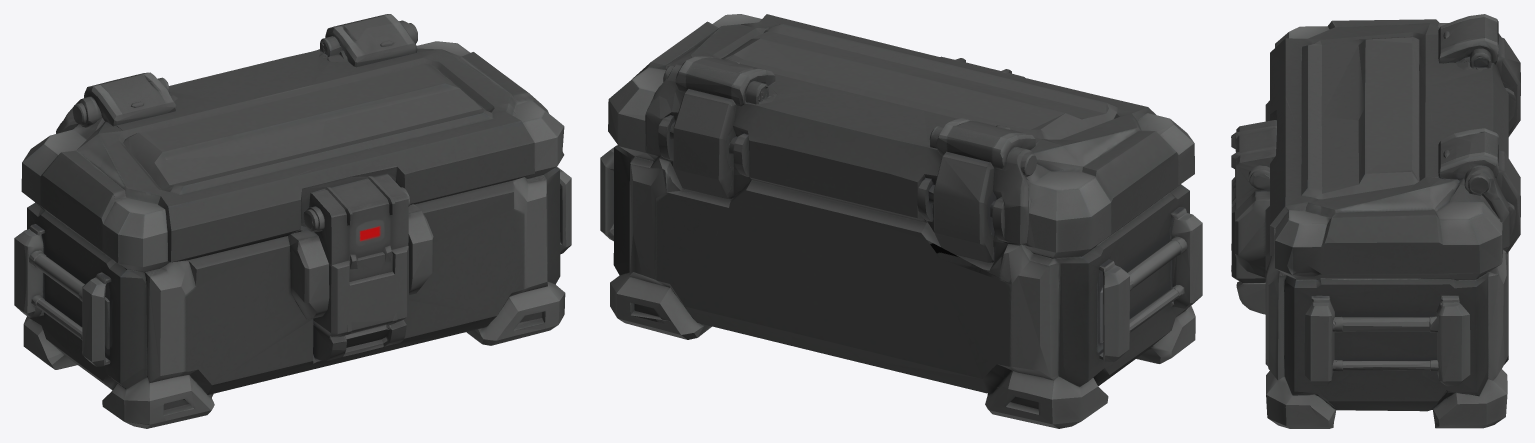
Rendered from Meshy_AI_Black_Tactical_Storag_1023224033_texture.fbx.
3 renders of one model, left to right at view 1: azimuth 30°, elevation 25°; view 2: azimuth 150°, elevation 25°; view 3: azimuth 270°, elevation 25°, orthographic. The views are drawn at different scales.
Parts seen in each view (by area): view 1: output_unwrapped; view 2: output_unwrapped; view 3: output_unwrapped.
Part boxes in pixels (x1,y1,x2,y2): output_unwrapped: (14,14,571,428); output_unwrapped: (600,14,1202,428); output_unwrapped: (1231,14,1520,428).
Size of the model in its own units: 188 by 94.56 by 101.
Materials: 1 (1 with a texture image).
